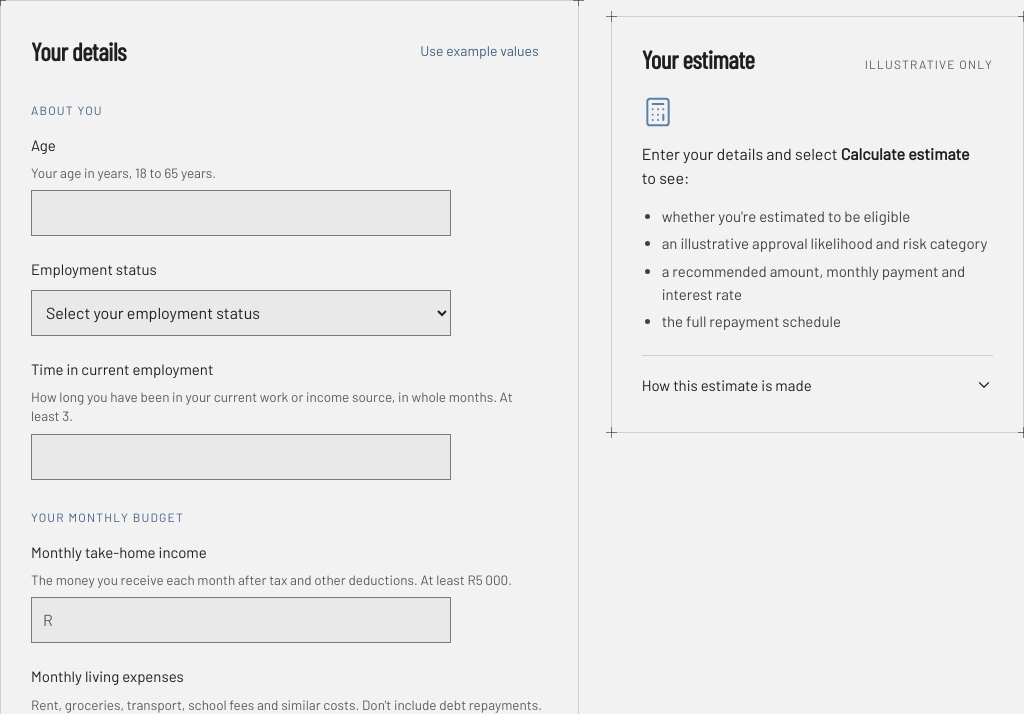
a calculation › announces the result once, politely
Click the button "Use example values": {"x": 480, "y": 51} [411,29,548,73]
(page scrolled)
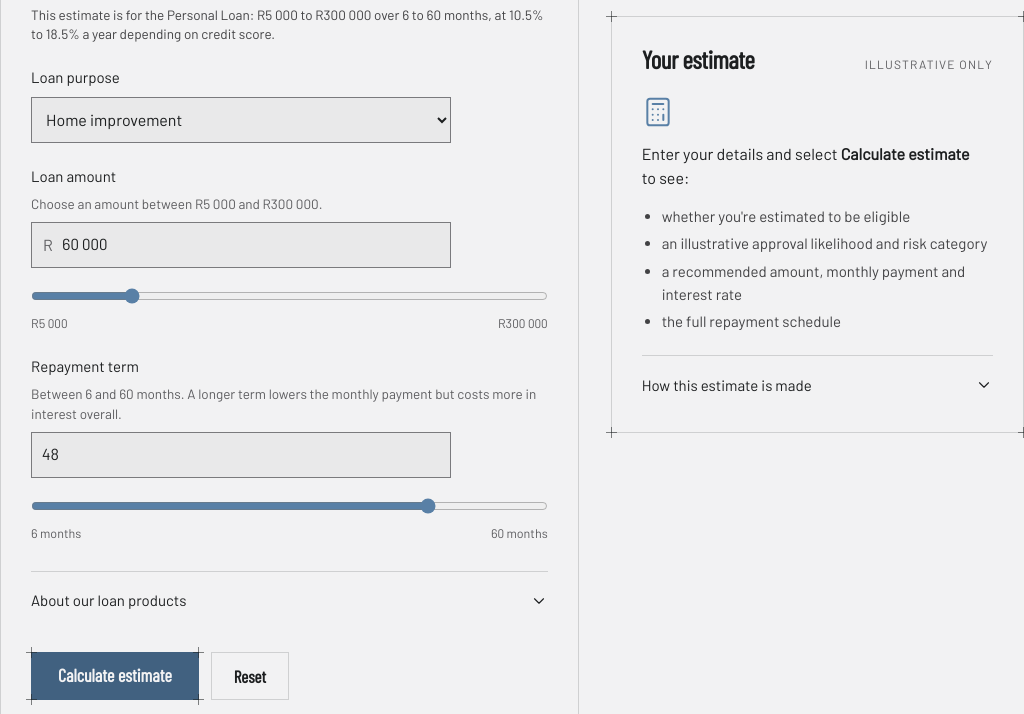
Click the button "Calculate estimate": {"x": 115, "y": 676} [31,652,199,700]
(page scrolled)
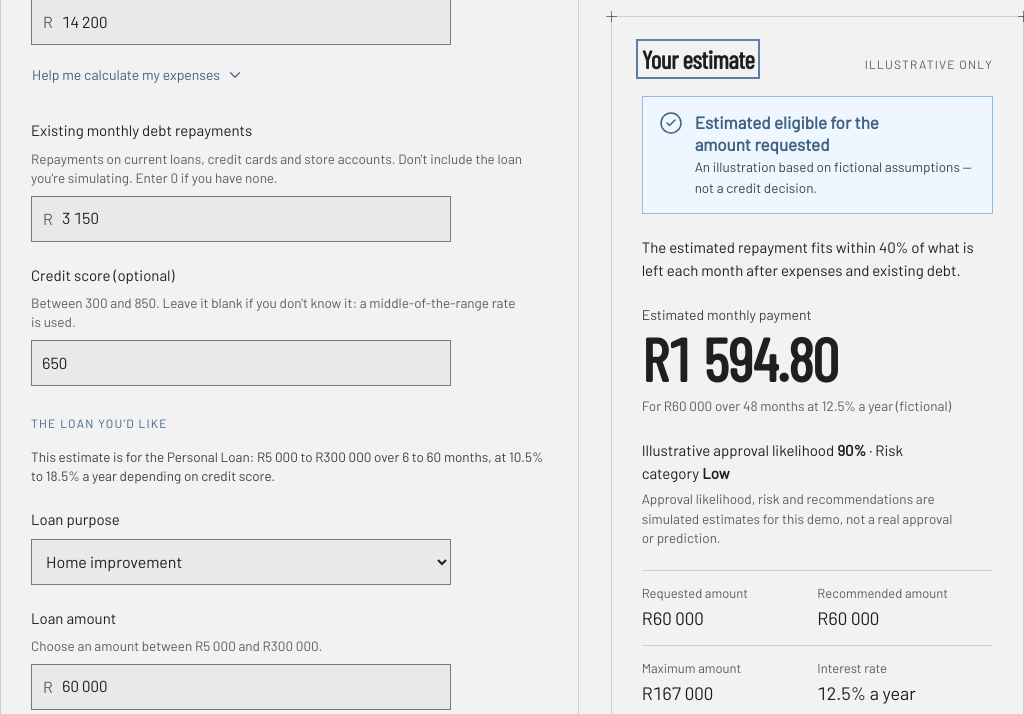
Expected: the text "Estimated monthly payment" is shown, [642,306,812,323]
